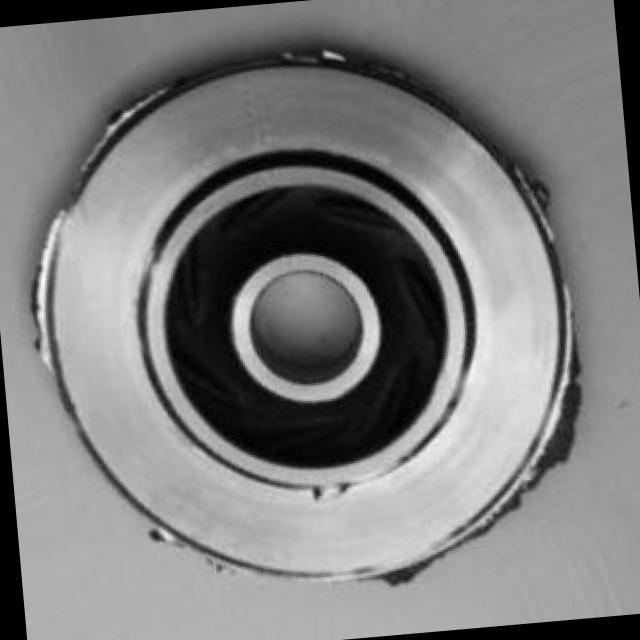Defect: (526, 409, 596, 462)
